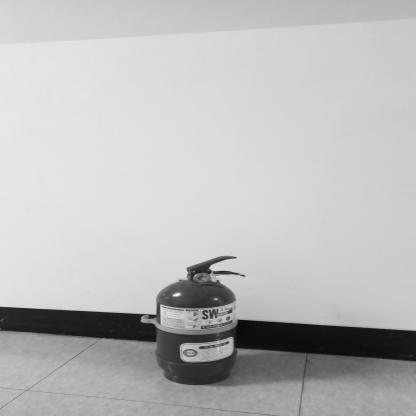FE: (157, 254, 246, 386)
